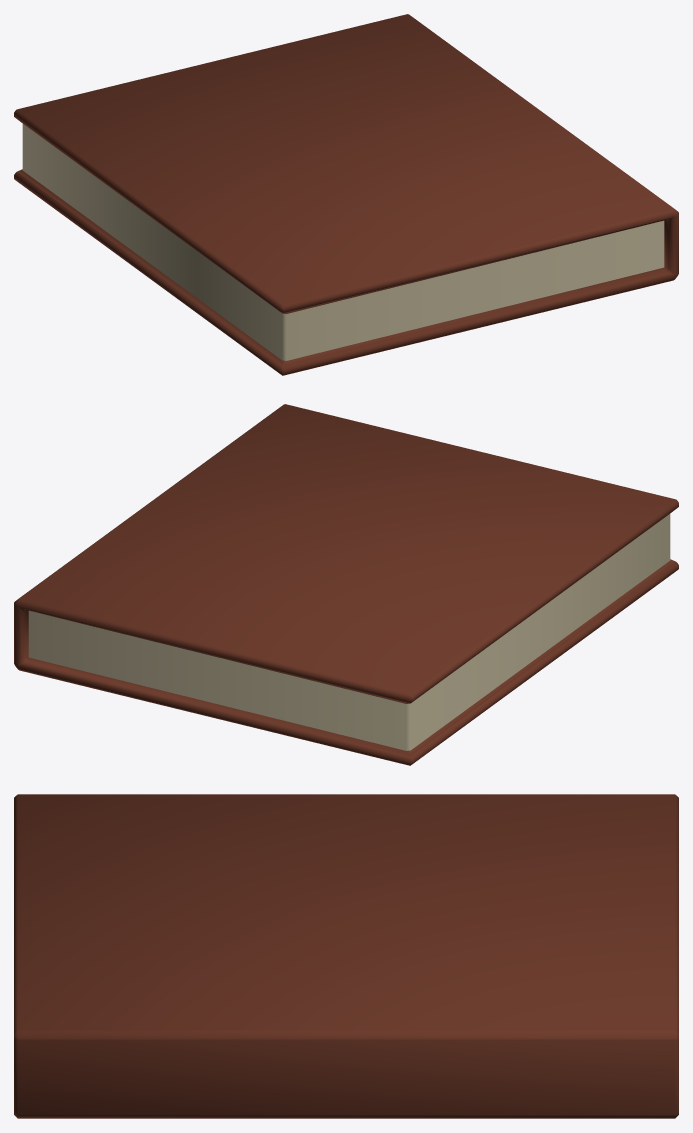
Rendered from Orange book.fbx.
3 views of the same model, one above another, from view 1: azimuth 30°, elevation 25°; view 2: azimuth 150°, elevation 25°; view 3: azimuth 270°, elevation 25° (orthographic). The views are drawn at different scales.
Parts seen in each view (by area): view 1: Cube; view 2: Cube; view 3: Cube.
Boxes of the visible parts, box(x1,y1,x2,y2) form: Cube: box(14, 14, 678, 375); Cube: box(14, 404, 678, 765); Cube: box(14, 794, 678, 1118).
Size of the model in its own units: 0.2141 by 0.0368 by 0.25.
